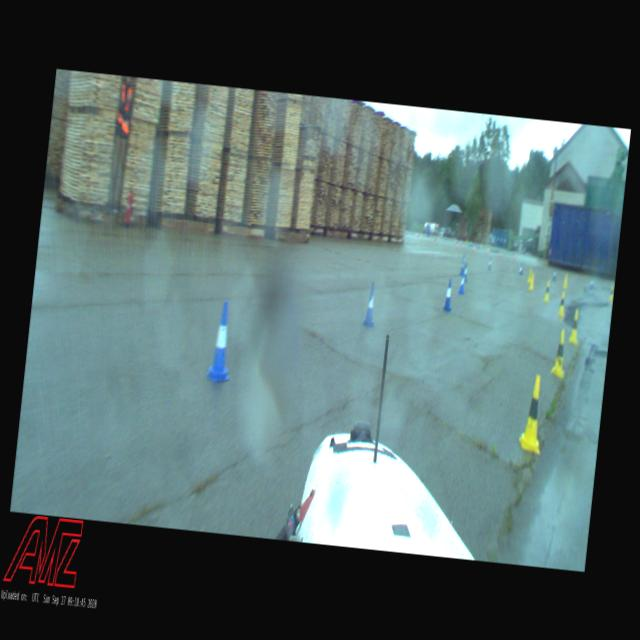blue_cone: (205, 300, 237, 382), (360, 281, 380, 327), (443, 279, 454, 311), (458, 272, 466, 292), (462, 264, 468, 282), (487, 258, 492, 270), (518, 262, 523, 274), (552, 268, 556, 280)
yellow_cone: (518, 373, 548, 453), (550, 329, 569, 377), (568, 308, 580, 344), (558, 292, 566, 314), (544, 281, 550, 301), (528, 273, 534, 289), (608, 285, 614, 299), (563, 274, 568, 288), (527, 268, 532, 282)
